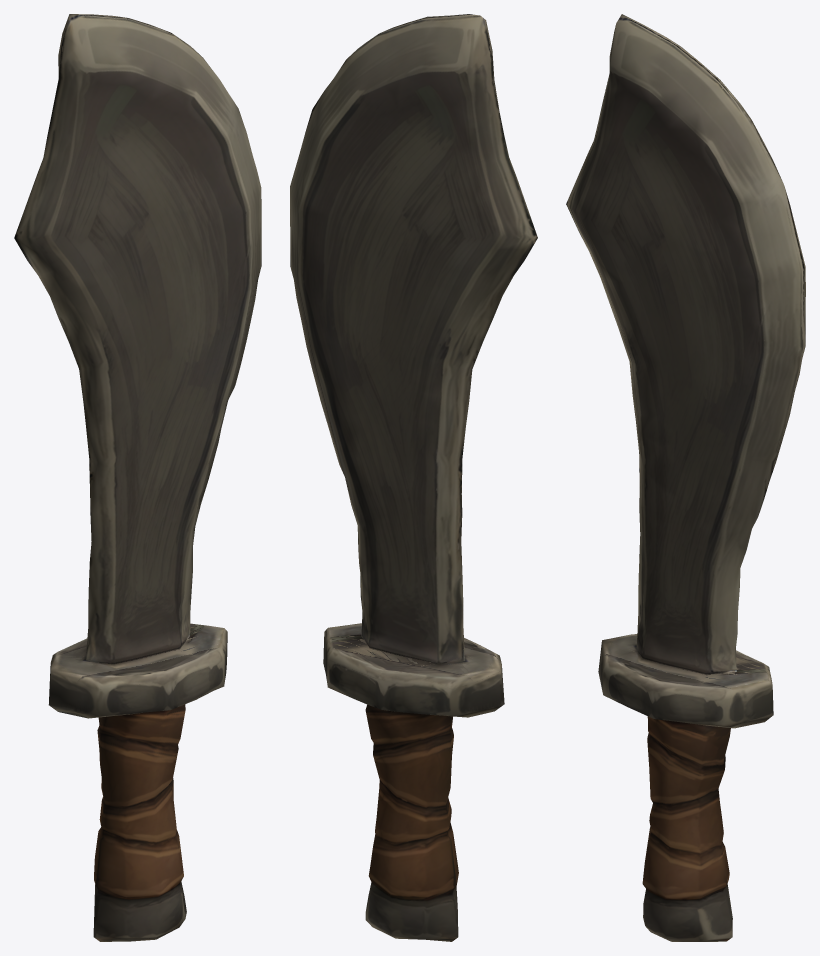
The model's file is Prop_Weapon_Scimitar.fbx.
3 renders of one model, left to right at view 1: azimuth 30°, elevation 25°; view 2: azimuth 150°, elevation 25°; view 3: azimuth 330°, elevation 25°, orthographic. The views are drawn at different scales.
Visible parts, largest first — view 1: texture_mapping; view 2: texture_mapping; view 3: texture_mapping.
Boxes of the visible parts, x1,y1,x2,y2 form: texture_mapping: (14,14,261,941); texture_mapping: (290,14,537,941); texture_mapping: (566,14,805,941).
Bounding box in the file's own units: 0.2749 × 0.1287 × 0.9999.
Materials: 1 (1 with a texture image).
